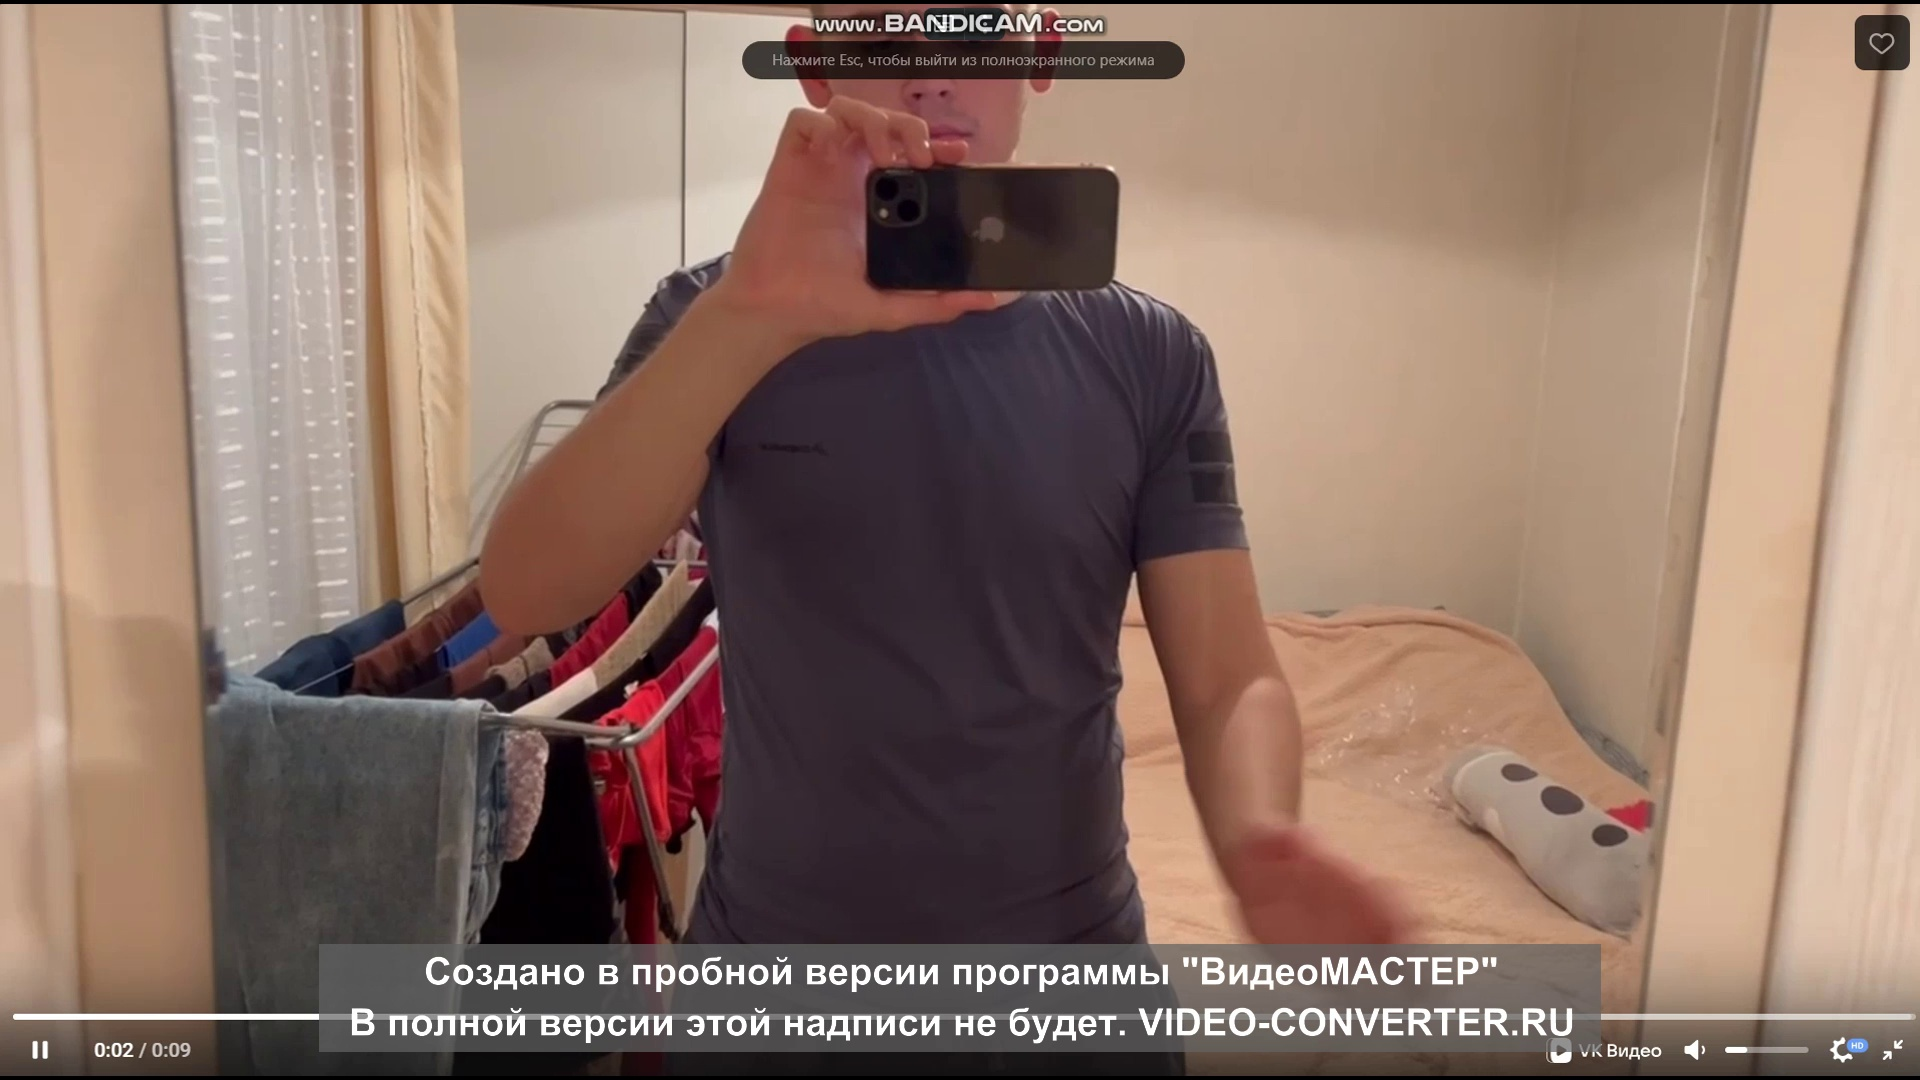Ладонь: (1229, 815, 1412, 943)
